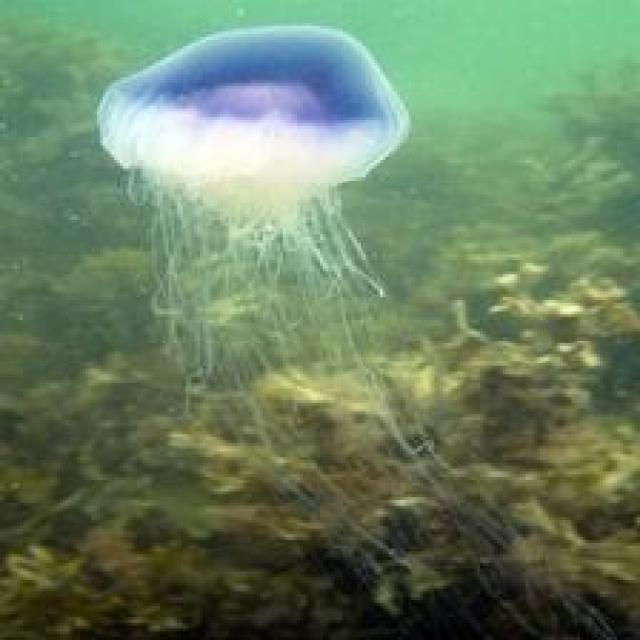Jellyfish: (95, 20, 412, 414)
